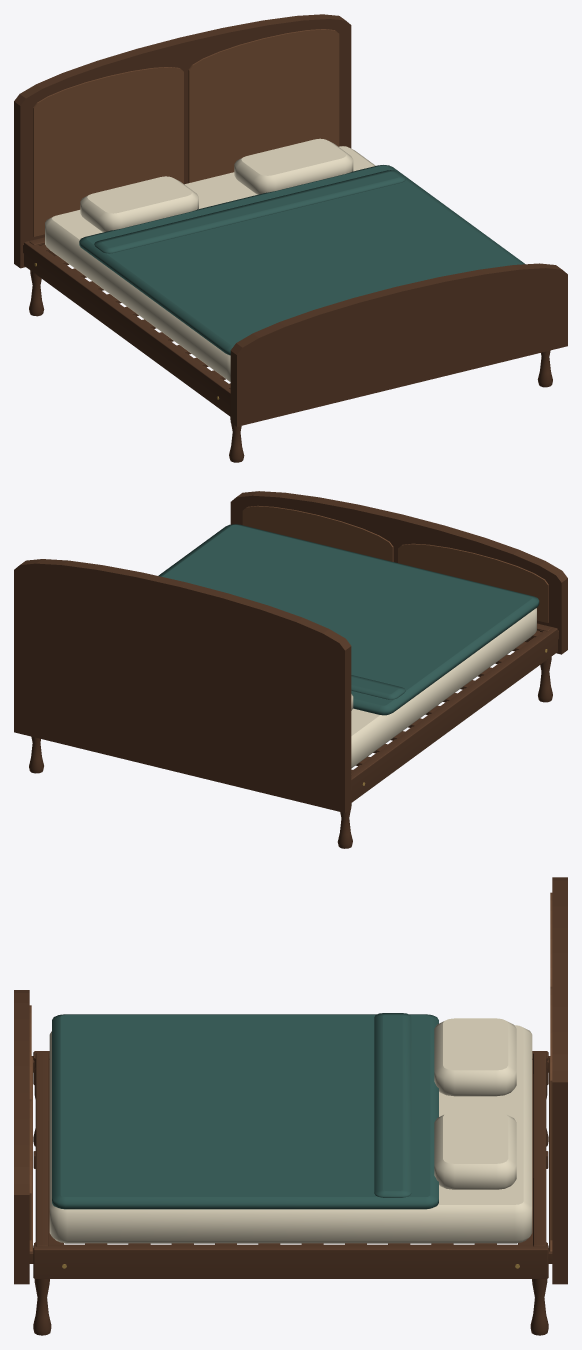
The model's file is rpg-mansion-arched-wide-guest-bed-01.glb.
3 views of the same model, one above another, from view 1: azimuth 30°, elevation 25°; view 2: azimuth 150°, elevation 25°; view 3: azimuth 270°, elevation 25° (orthographic). The views are drawn at different scales.
Parts seen in each view (by area): view 1: rpg-mansion-arched-wide-guest-bed-01; view 2: rpg-mansion-arched-wide-guest-bed-01; view 3: rpg-mansion-arched-wide-guest-bed-01.
Part boxes in pixels (x1,y1,x2,y2): rpg-mansion-arched-wide-guest-bed-01: (14, 14, 567, 462); rpg-mansion-arched-wide-guest-bed-01: (14, 491, 567, 848); rpg-mansion-arched-wide-guest-bed-01: (14, 877, 567, 1335).
Size of the model in its own units: 1.93 by 1.28 by 2.25.
